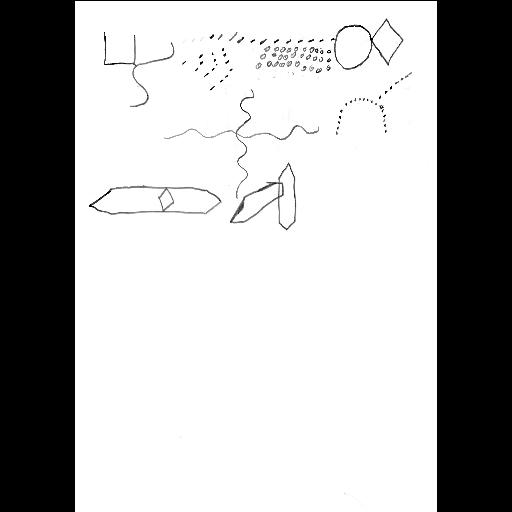shape-1: (334, 13, 406, 77)
shape-2: (208, 28, 336, 46)
shape-3: (256, 44, 332, 72)
shape-4: (180, 44, 236, 94)
shape-5: (100, 28, 176, 108)
shape-6: (331, 68, 413, 138)
shape-7: (164, 84, 322, 198)
shape-8: (228, 158, 298, 234)
shape-9: (85, 182, 223, 218)
